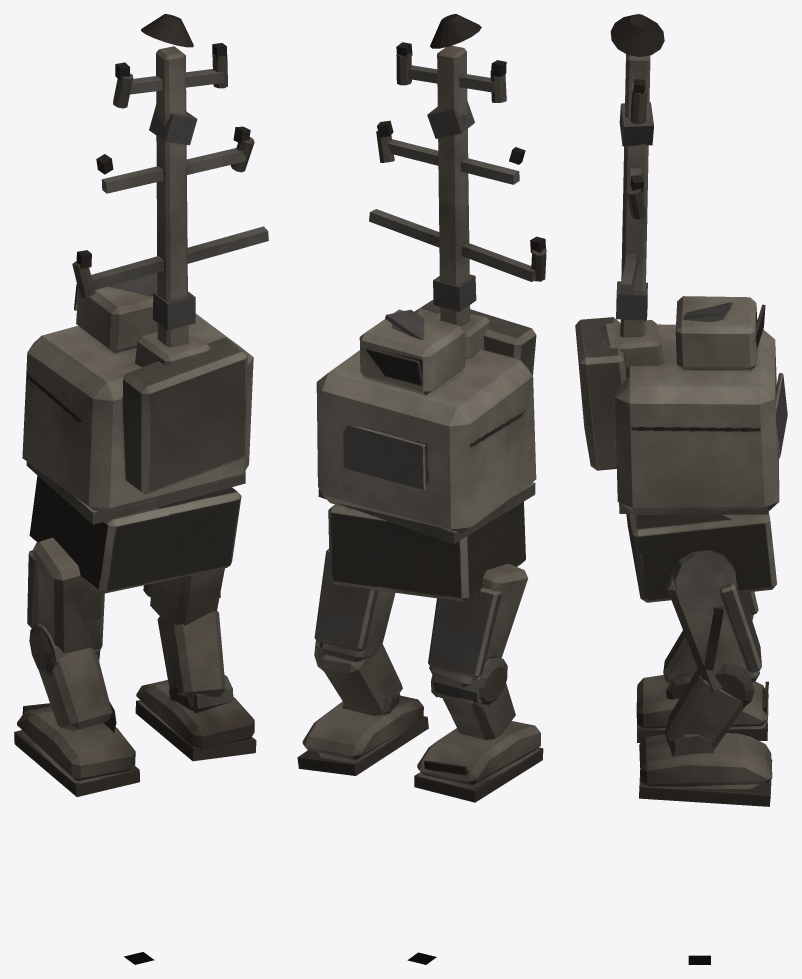
File: ord_hush_wreck.fbx
3 views of the same model, side by side, from view 1: azimuth 30°, elevation 25°; view 2: azimuth 150°, elevation 25°; view 3: azimuth 270°, elevation 25° (orthographic). The views are drawn at different scales.
Parts seen in each view (by area): view 1: torso_bar, base_bar, thighL_bar, footL_bar, footR_bar, shinR_bar, shinL_bar, thighR_bar; view 2: torso_bar, base_bar, thighL_bar, footL_bar, footR_bar, thighR_bar, shinR_bar, shinL_bar; view 3: torso_bar, thighR_bar, base_bar, footR_bar, shinR_bar, footL_bar, shinL_bar.
Part boxes in pixels (left/top/right/bottom): torso_bar: left=22, top=14, right=268, bottom=524; base_bar: left=29, top=474, right=241, bottom=593; thighL_bar: left=27, top=537, right=104, bottom=676; footL_bar: left=14, top=703, right=139, bottom=796; footR_bar: left=135, top=680, right=256, bottom=761; shinR_bar: left=157, top=610, right=233, bottom=713; shinL_bar: left=38, top=647, right=116, bottom=732; thighR_bar: left=143, top=568, right=224, bottom=626; torso_bar: left=316, top=14, right=546, bottom=544; base_bar: left=328, top=501, right=525, bottom=601; thighL_bar: left=428, top=563, right=528, bottom=708; footL_bar: left=414, top=721, right=543, bottom=802; footR_bar: left=297, top=695, right=428, bottom=775; thighR_bar: left=314, top=549, right=395, bottom=671; shinR_bar: left=321, top=643, right=402, bottom=715; shinL_bar: left=441, top=683, right=515, bottom=739; torso_bar: left=575, top=14, right=787, bottom=514; thighR_bar: left=666, top=550, right=761, bottom=707; base_bar: left=626, top=512, right=776, bottom=602; footR_bar: left=639, top=733, right=772, bottom=806; shinR_bar: left=665, top=668, right=744, bottom=756; footL_bar: left=636, top=675, right=768, bottom=742; shinL_bar: left=663, top=630, right=697, bottom=699.
Bounding box in the file's own units: 195 × 934 × 191.
2 materials, 2 textured.
